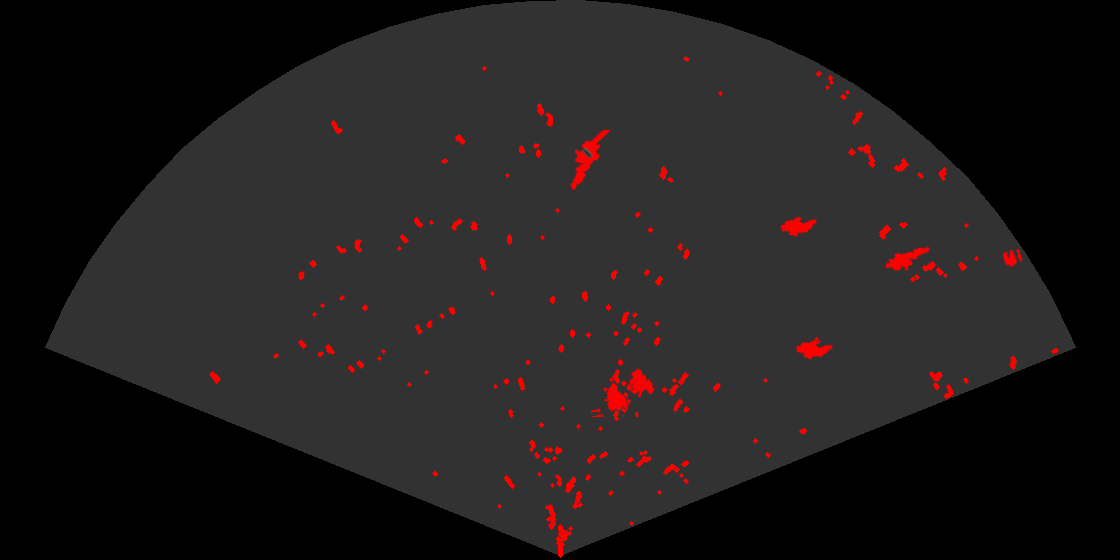AUV: (778, 215, 819, 238), (794, 339, 835, 361)
ball: (1001, 247, 1024, 269)
cage: (591, 367, 657, 417)
frogman: (569, 130, 612, 192), (886, 245, 930, 273)
